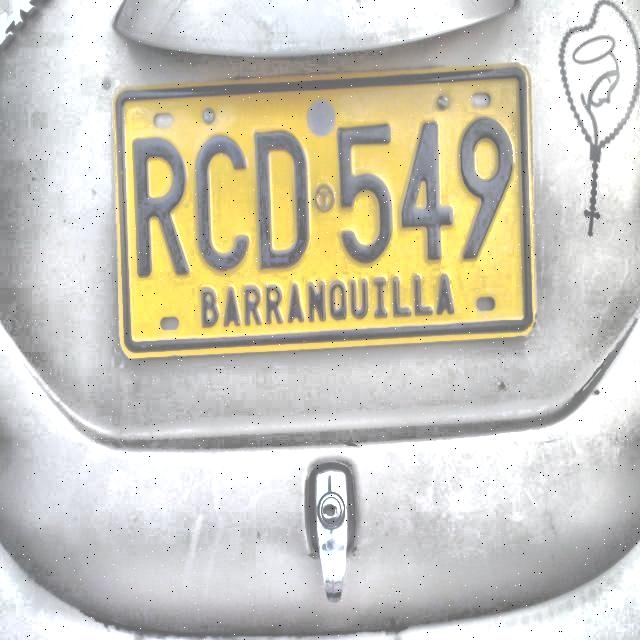4: (396, 118, 456, 266)
5: (323, 120, 398, 268)
9: (452, 114, 514, 262)
C: (194, 130, 252, 276)
D: (252, 130, 316, 274)
R: (127, 130, 193, 282)
